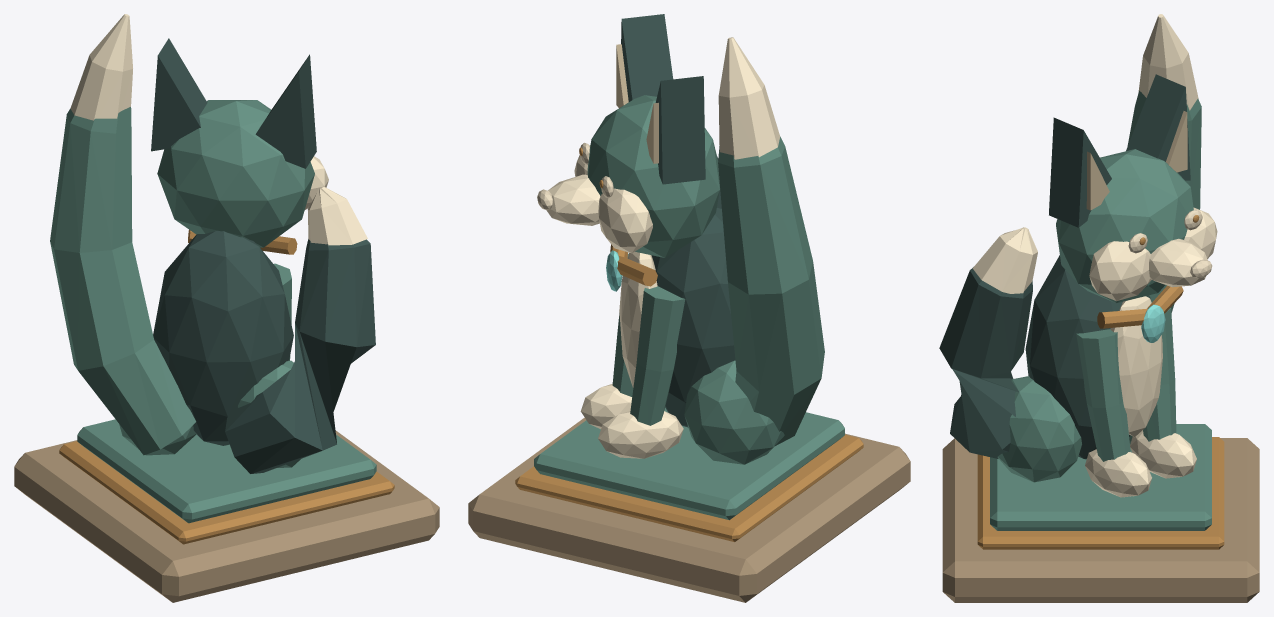
The model's file is Tower_SteamFoxL2.fbx.
3 views of the same model, side by side, from view 1: azimuth 30°, elevation 25°; view 2: azimuth 150°, elevation 25°; view 3: azimuth 270°, elevation 25° (orthographic). The views are drawn at different scales.
Visible parts, largest first — view 1: Tower_SteamFoxL2; view 2: Tower_SteamFoxL2; view 3: Tower_SteamFoxL2.
Boxes of the visible parts, box(x1,y1,x2,y2) form: Tower_SteamFoxL2: box(14, 14, 439, 602); Tower_SteamFoxL2: box(468, 14, 910, 602); Tower_SteamFoxL2: box(939, 14, 1259, 602).
Bounding box in the file's own units: 0.9164 × 1.54 × 0.9092.
